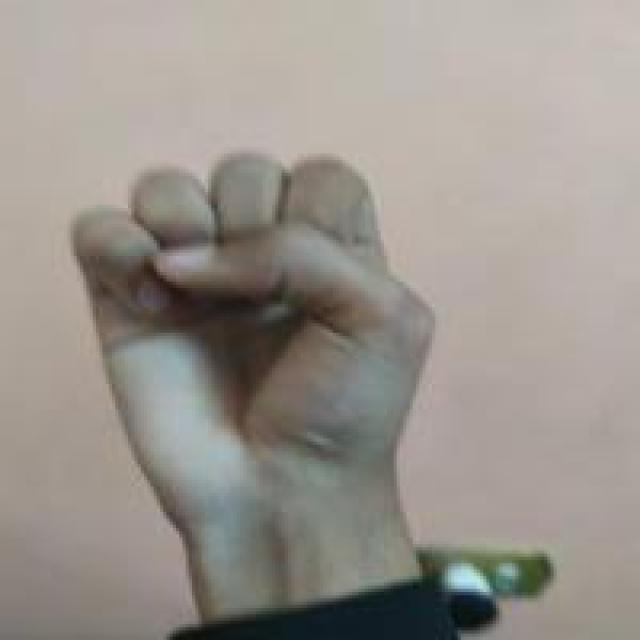E: (69, 151, 440, 518)
